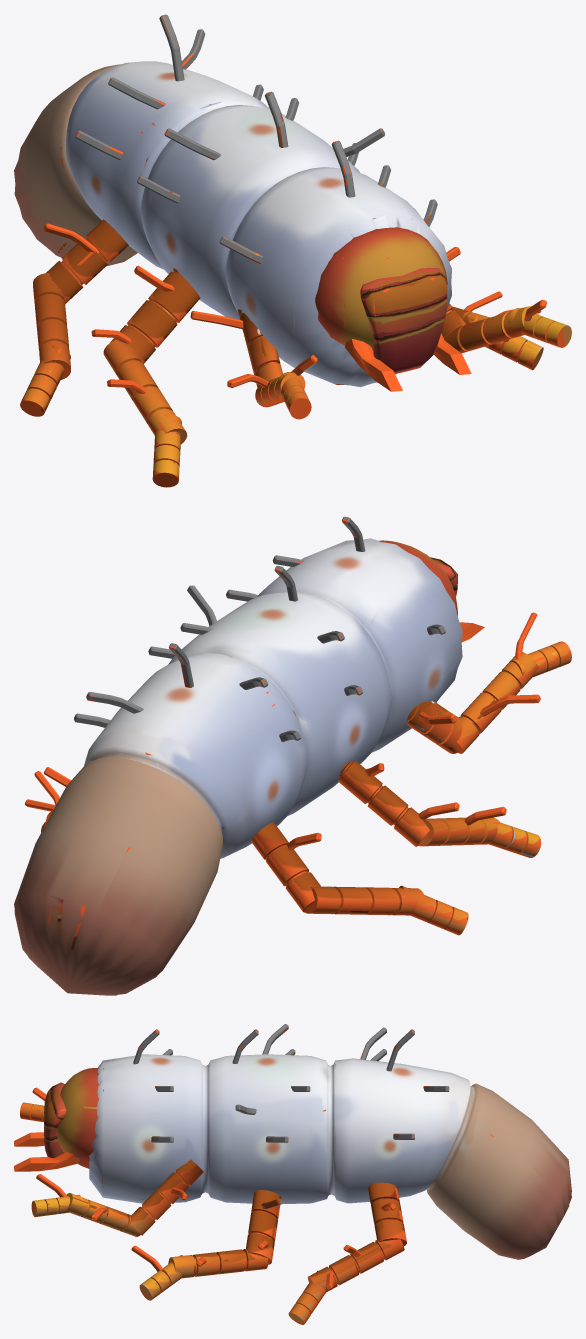
Rendered from LARVA_JAM2.fbx.
The picture shows the model from 3 angles, top to bottom: view 1: azimuth 30°, elevation 25°; view 2: azimuth 150°, elevation 25°; view 3: azimuth 270°, elevation 25°; orthographic projection. The views are drawn at different scales.
Visible parts, largest first — view 1: pCube21.049; view 2: pCube21.049; view 3: pCube21.049.
Part boxes in pixels (<box>): pCube21.049: <box>14,14,571,487</box>; pCube21.049: <box>14,516,571,995</box>; pCube21.049: <box>14,1024,571,1324</box>.
Bounding box in the file's own units: 1036 × 705 × 1591.
